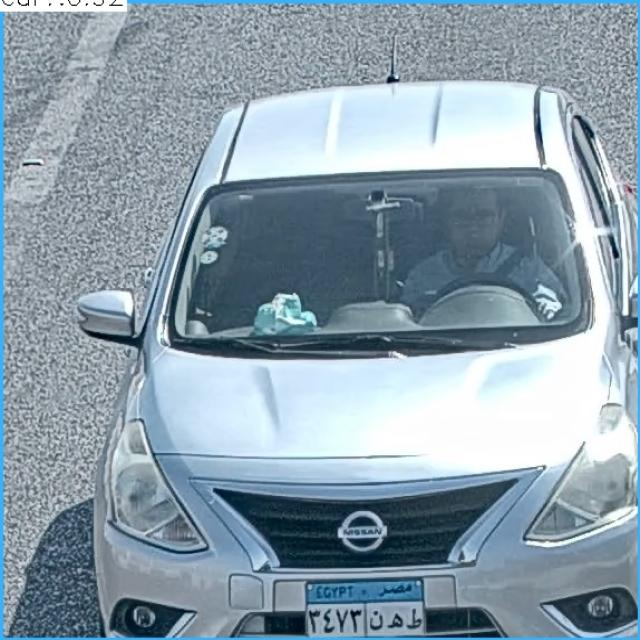windshield: (154, 175, 593, 344)
